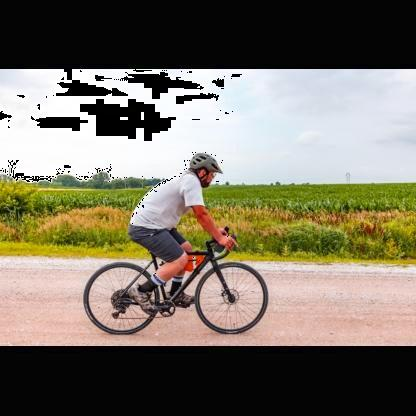Bicycle: (72, 223, 280, 346)
